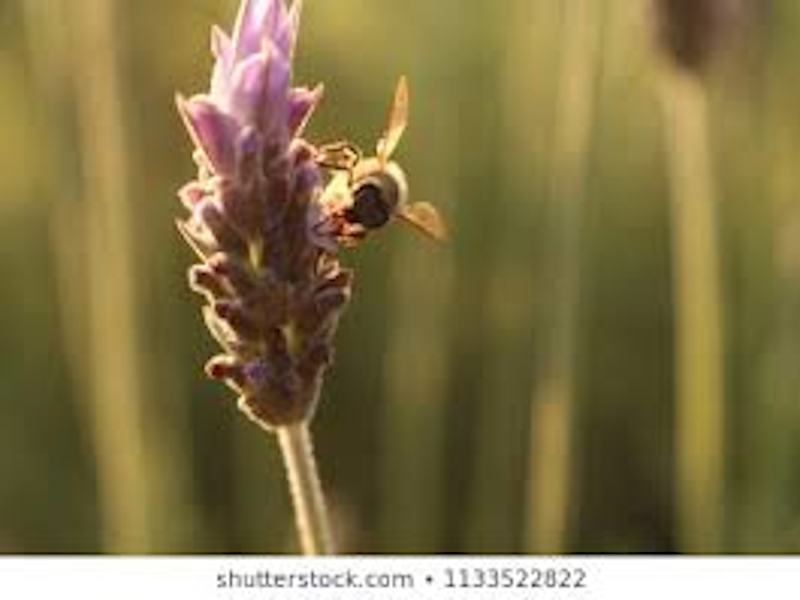abeja: (317, 44, 468, 293)
